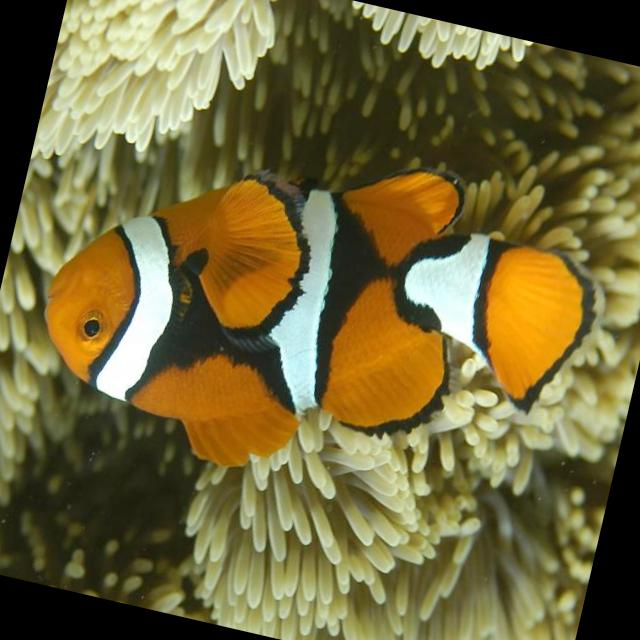ClownFish: (15, 92, 622, 545)
